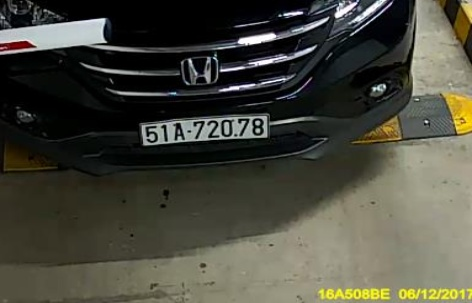plate: (133, 113, 276, 146)
